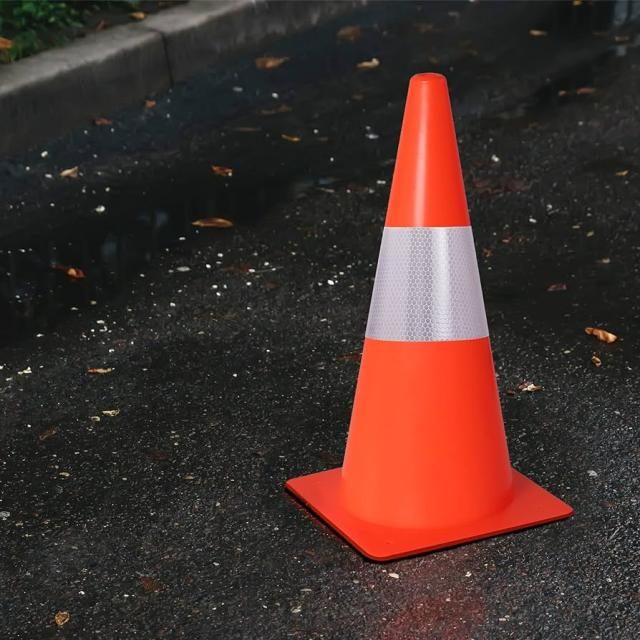Traffic Cone: (224, 36, 619, 596)
